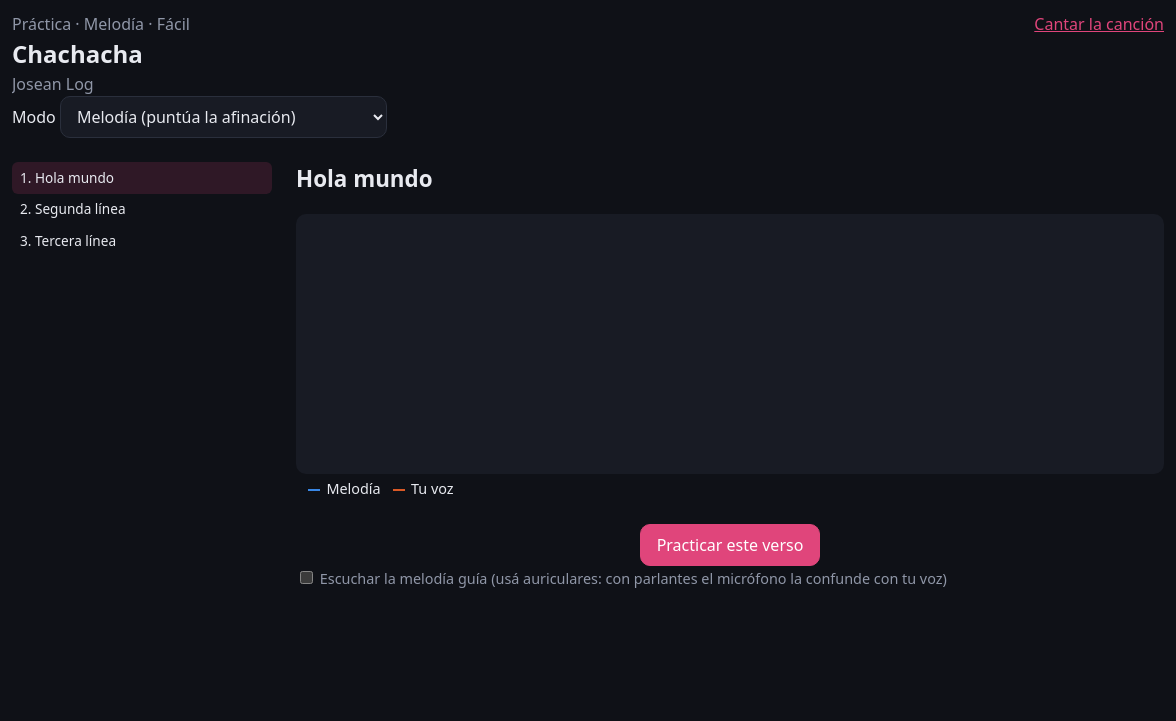
Scenario: PracticePage › plays the line, scores each attempt and keeps the history
Step 1. Click the button "Practicar este verso" → click(730, 545), box [640,524,820,566]
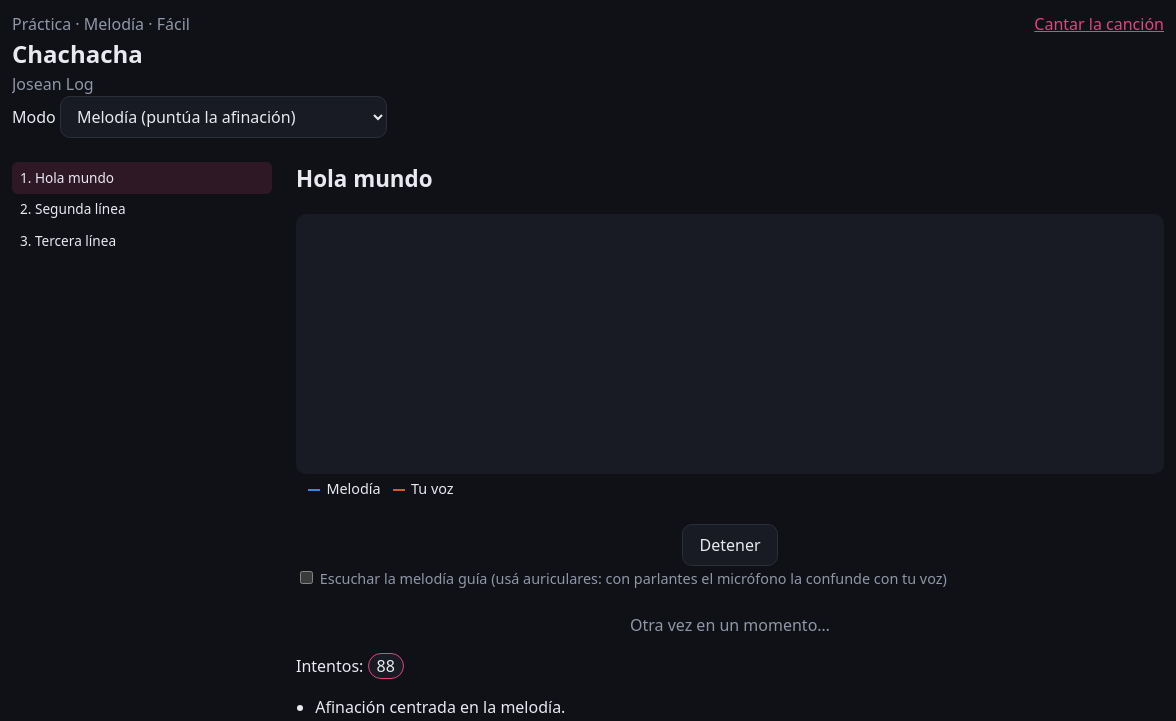
Expected: the text "Escuchá la entrada" is shown, [630,614,830,636]
Now the element labelled "Intentos" shows "88", box [377,655,395,677]
Step 2. Click the button "Detener" → click(730, 545), box [682,524,778,566]
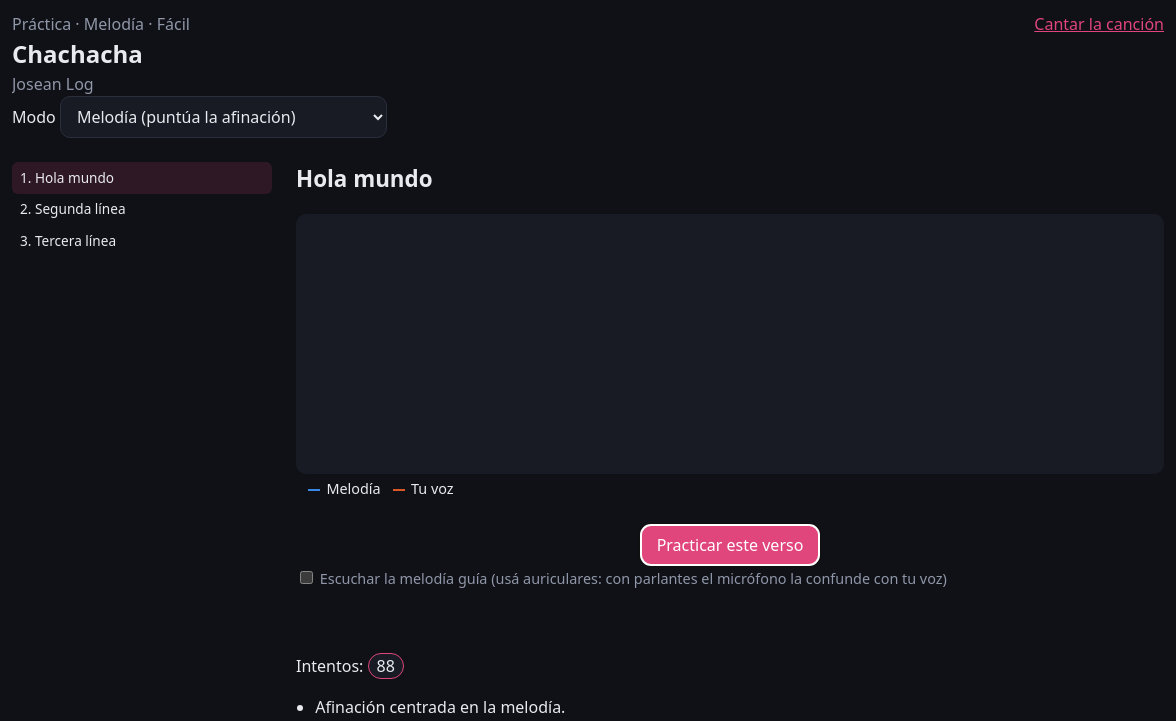
Now the element labelled "Intentos" shows "88", box [377,655,395,677]
Now the button "Practicar este verso" is shown, box [640,524,820,566]
